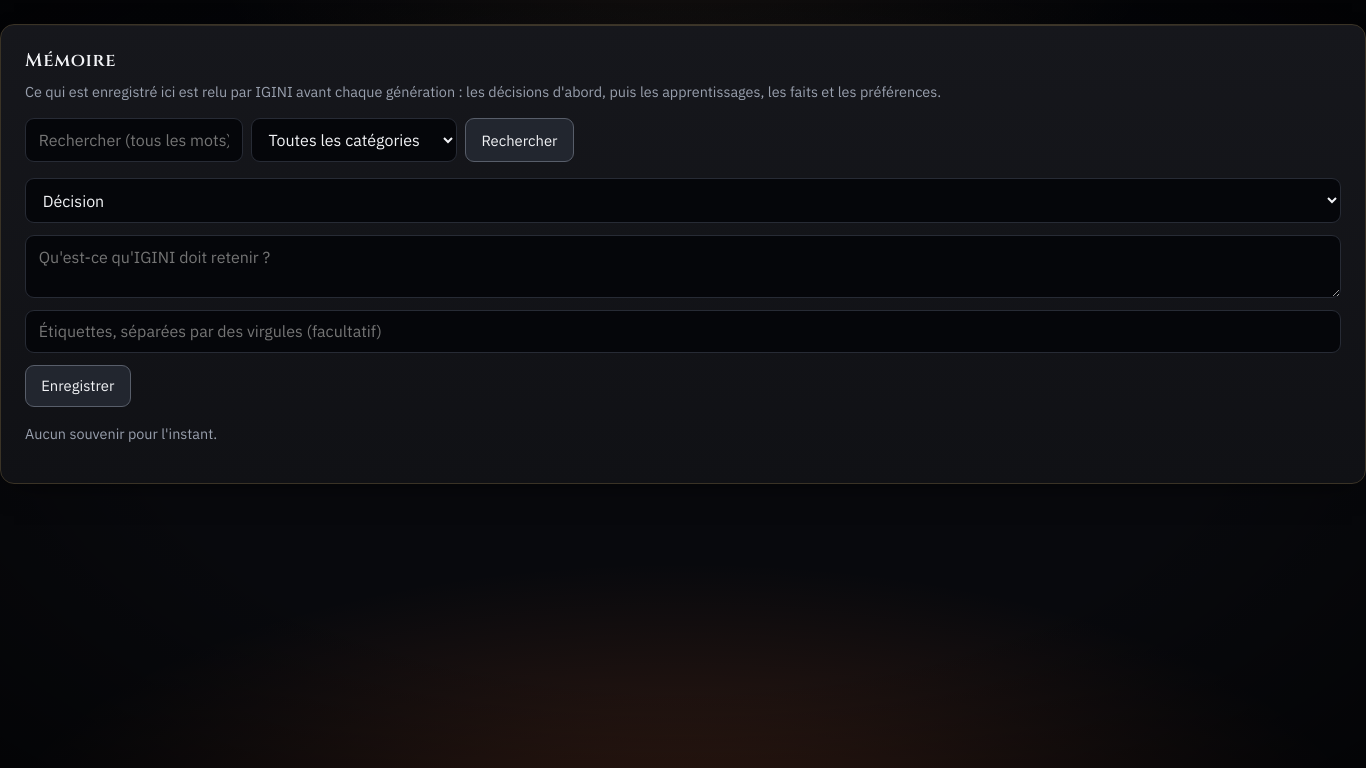
Scenario: MemorySection › distingue « aucun résultat » de « aucun souvenir »
Expected: the text "Aucun souvenir pour l'instant." is shown, left=25, top=424, right=217, bottom=442
Type "introuvable" into the field named "Rechercher dans les souvenirs".
click(134, 140); type("introuvable")  # box left=25, top=118, right=243, bottom=162
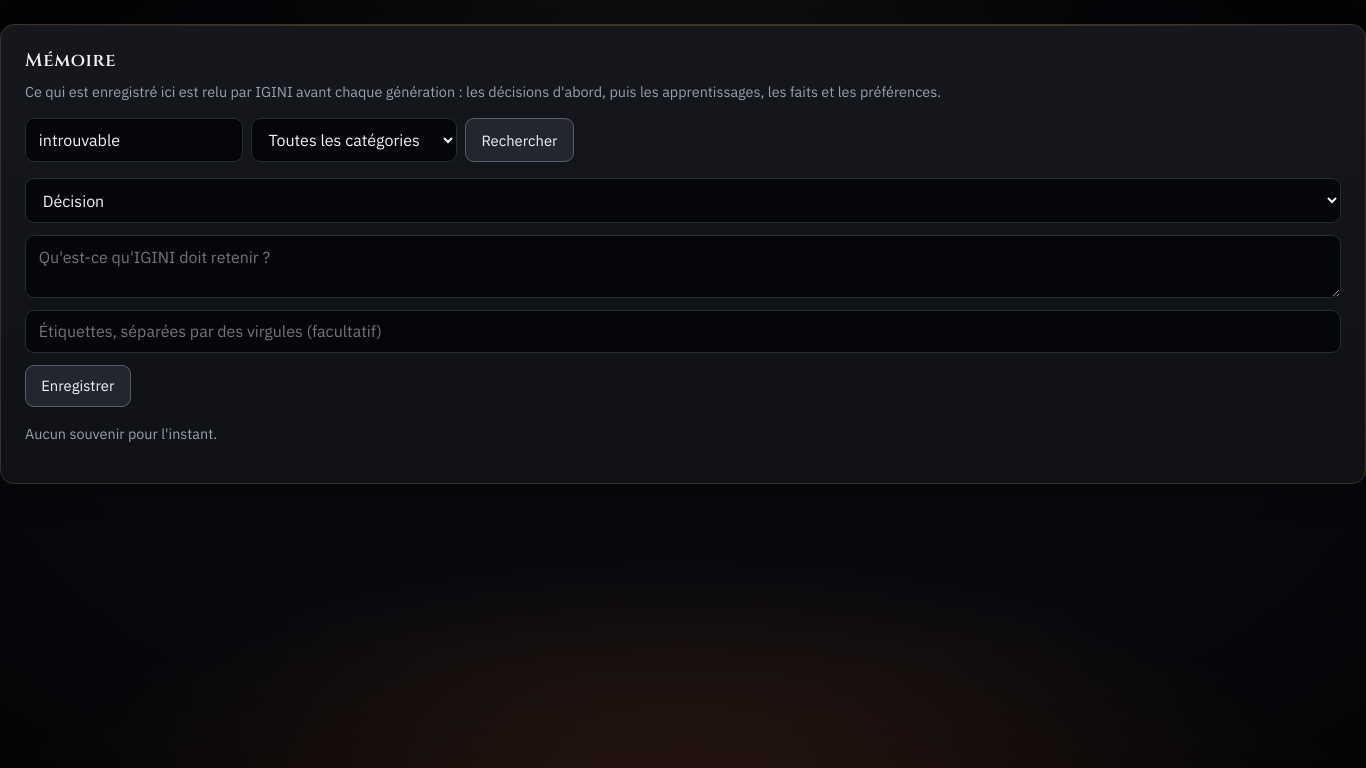
Click the button "Rechercher".
click(519, 140)  # box left=465, top=118, right=574, bottom=162
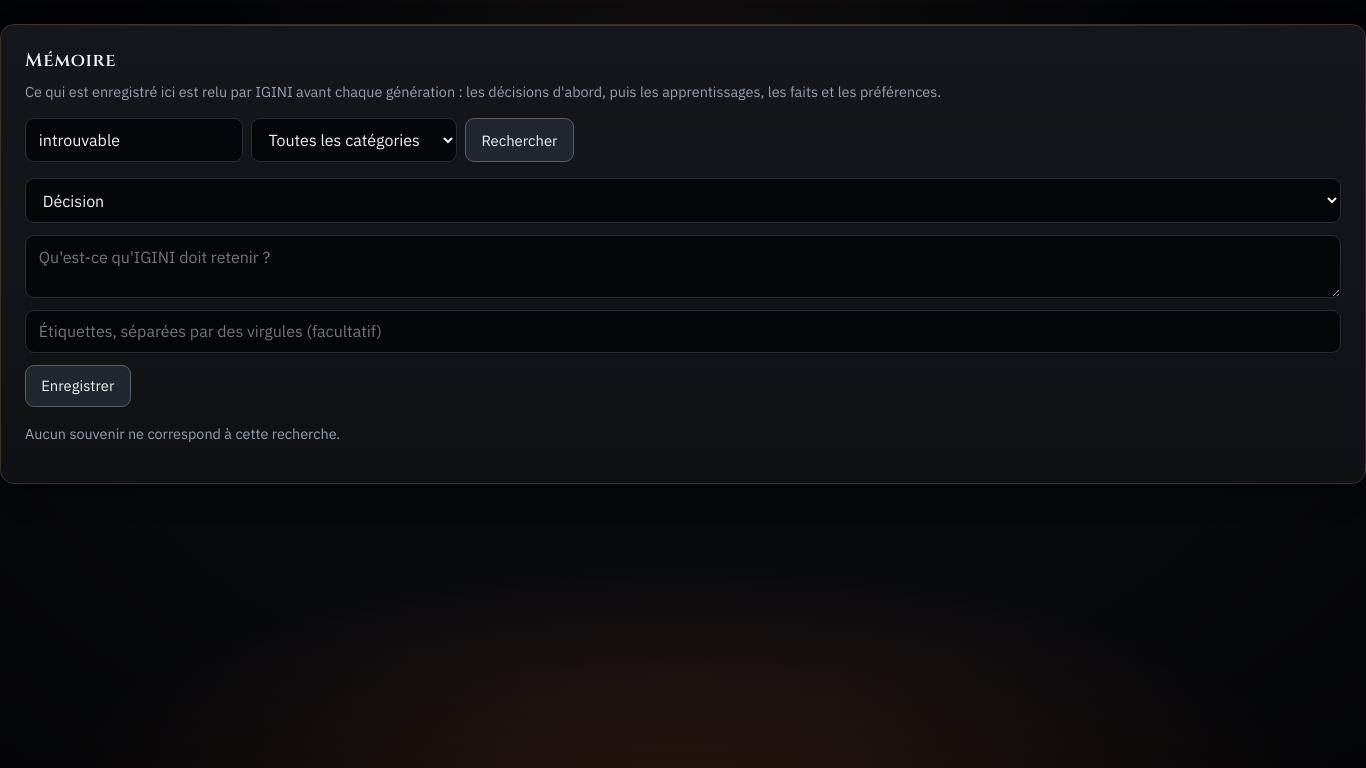
Expected: the text "Aucun souvenir ne correspond à cette recherche." is shown, left=25, top=424, right=340, bottom=442
